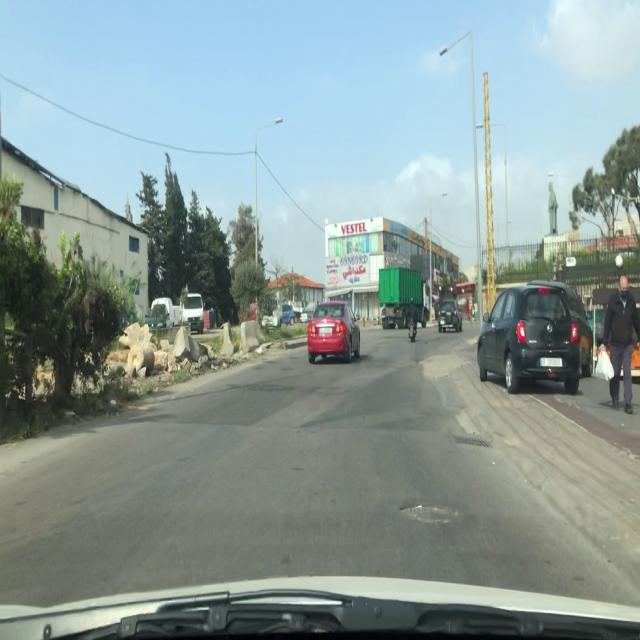Pothole: (396, 500, 459, 525)
